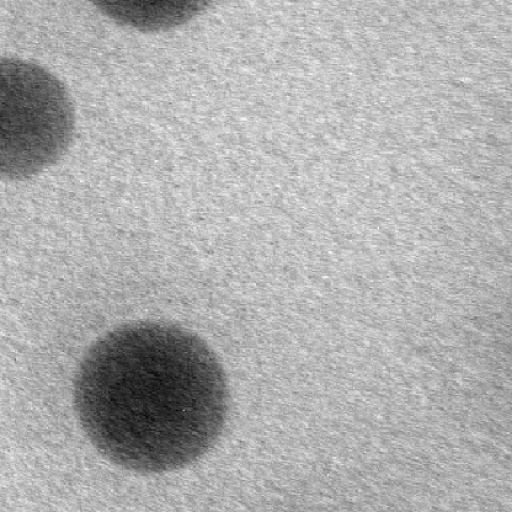Nanoparticles: (72, 319, 235, 475), (0, 54, 78, 192), (86, 0, 215, 37)
